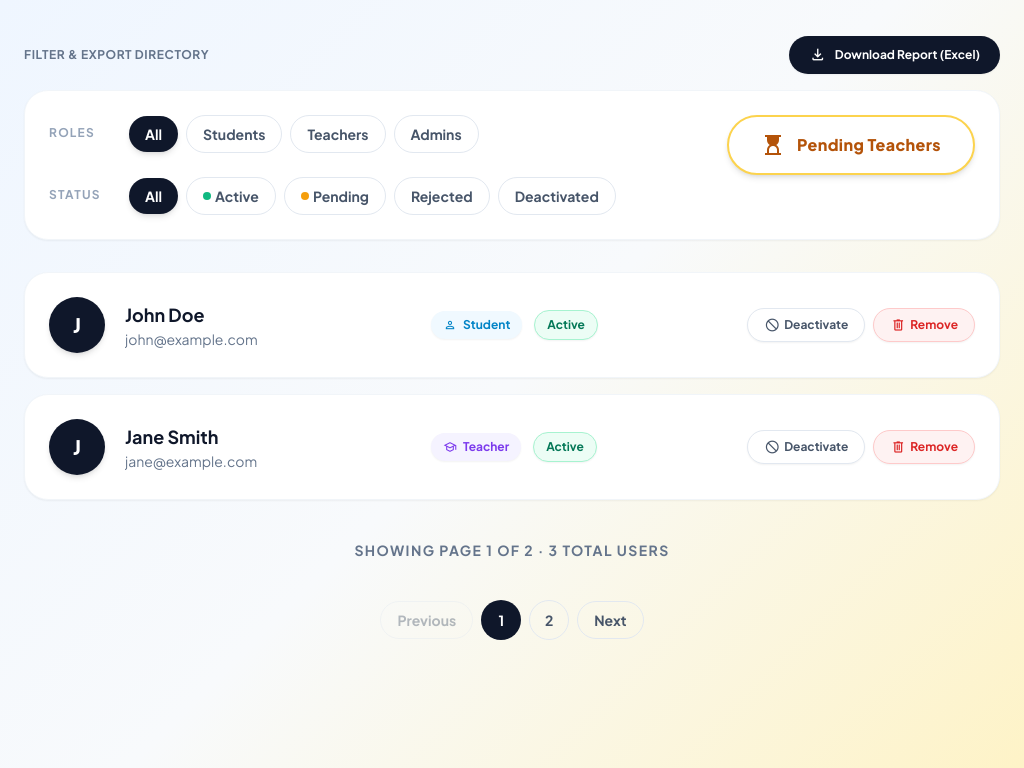
Test: AdminUsersPage › renders page numbers and Next/Previous controls, and fetches the next page on click
(page scrolled)
Check: the heading "John Doe" is shown, box [125,303,204,326]
Check: the text "Showing page 1 of 2 · 3 total users" is shown, box [354,540,670,560]
Click the button "Next" at (610, 620), box [577,601,644,639]
(page scrolled)
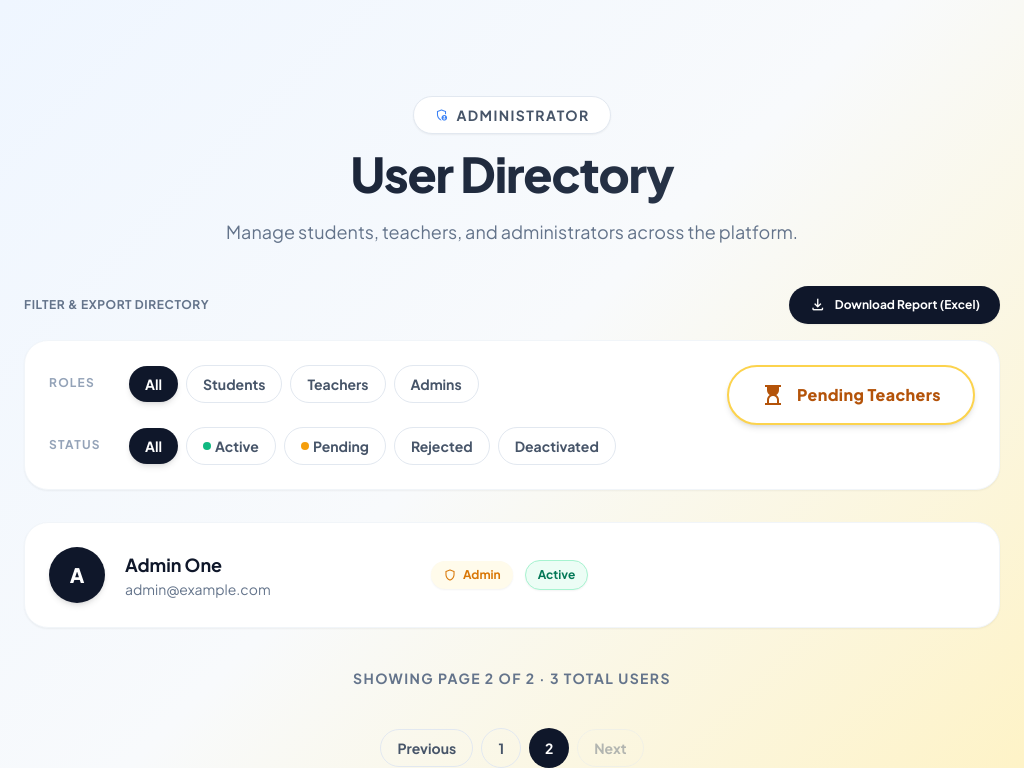
Check: the text "Showing page 2 of 2 · 3 total users" is shown, box [353,668,671,688]
Check: the heading "Admin One" is shown, box [125,553,222,576]
Check: the heading "John Doe" is gone
